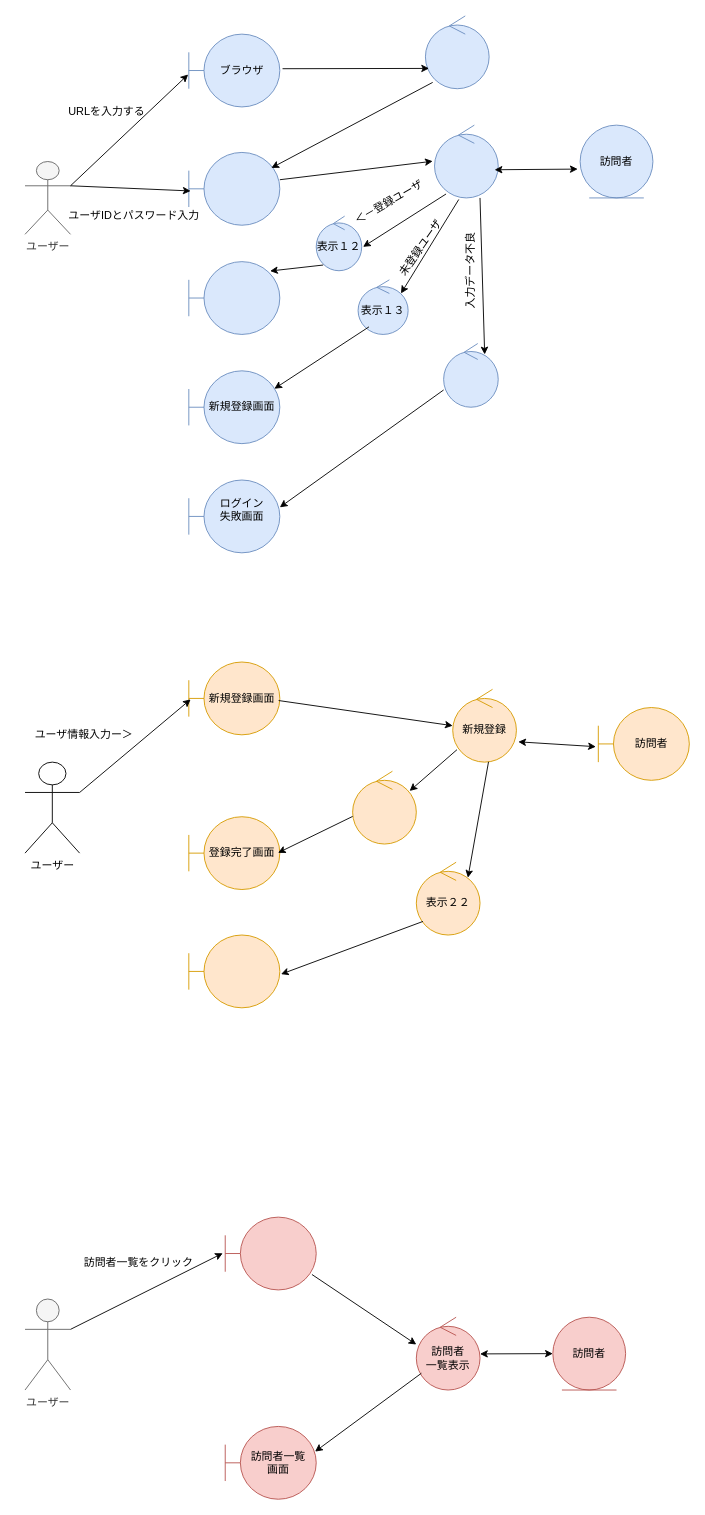
Image size: 705x1515. Some labels were removed from this diagram. Each missing label, with the centre of its shape:
"Welcome ページ" belongs at [234,297].
"エラー付き 新規登録画面" belongs at [234,971].
"ユーザー 認証" belongs at [466,161].
"ログイン画面" belongs at [234,188].
"表示21" belongs at [384,807].
"表示１１" belongs at [457,52].
"表示１４" belongs at [470,375].
"訪問者 システム メニュー" belongs at [270,1253].
